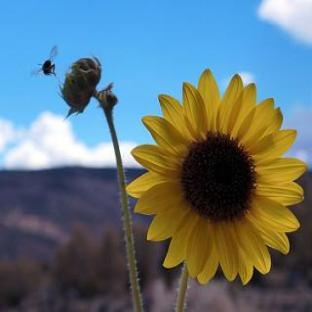sunflower: (130, 69, 307, 287)
